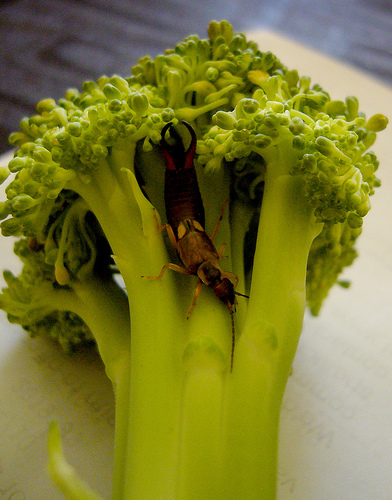broccoli: (1, 18, 390, 496)
